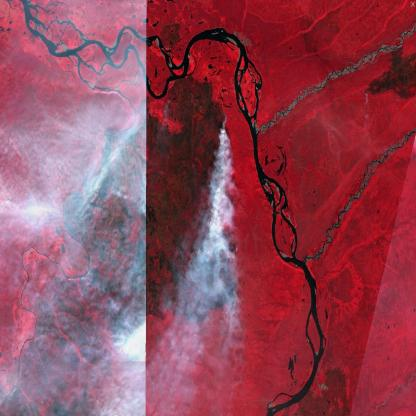fire: (203, 115, 246, 324), (110, 320, 152, 371)
